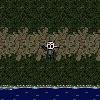Interaction: (0, 75, 100, 92)
Jason: (40, 40, 60, 61)
Slow: (0, 90, 100, 100)
